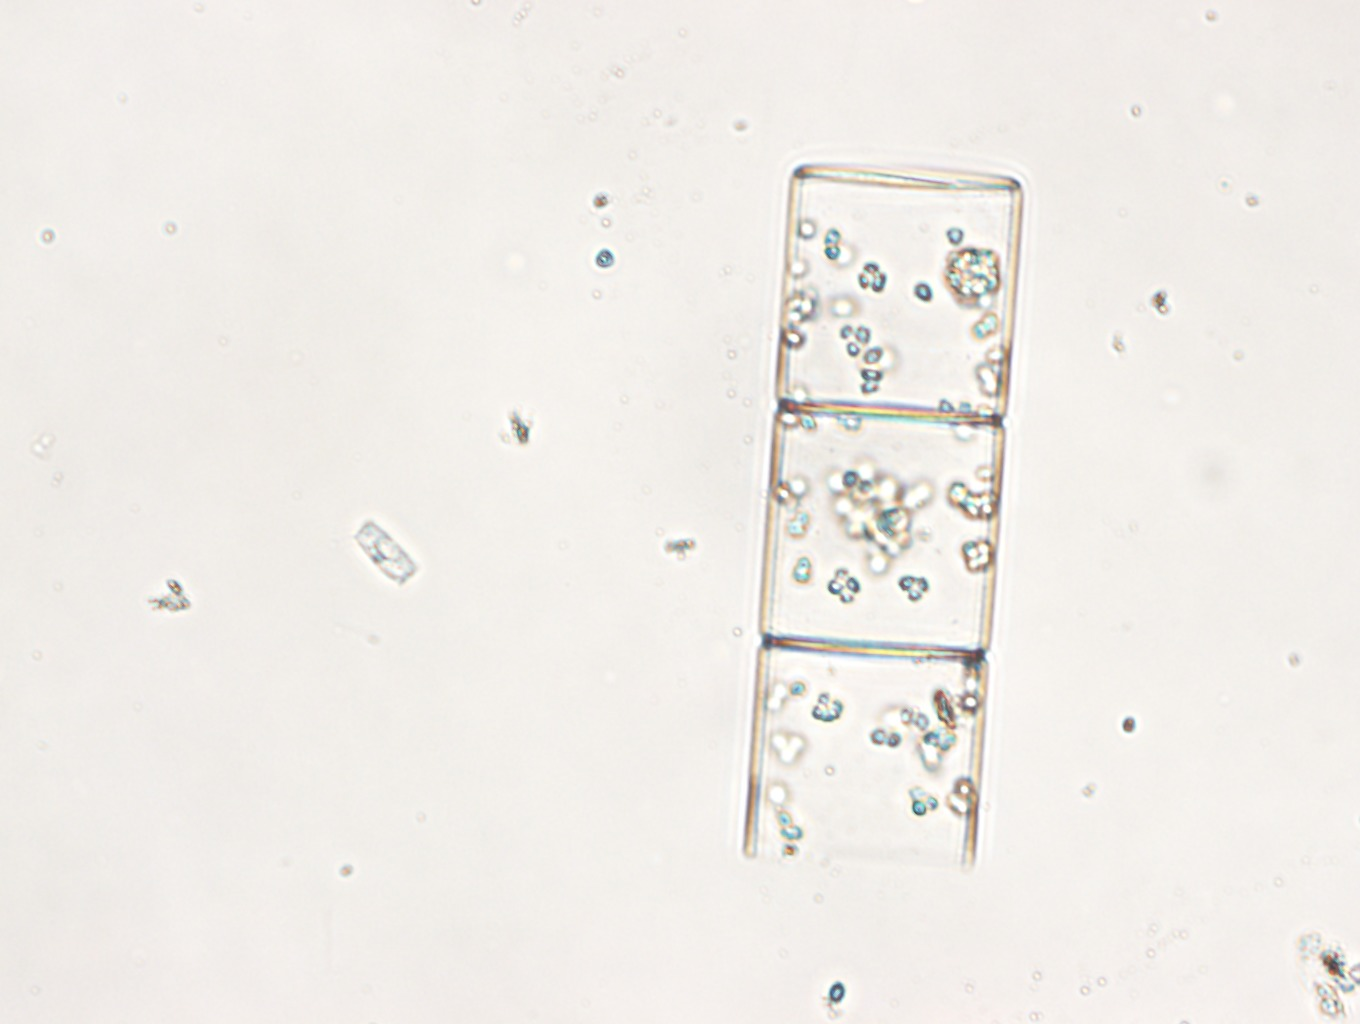guinardia flaccida: (741, 155, 1029, 877)
